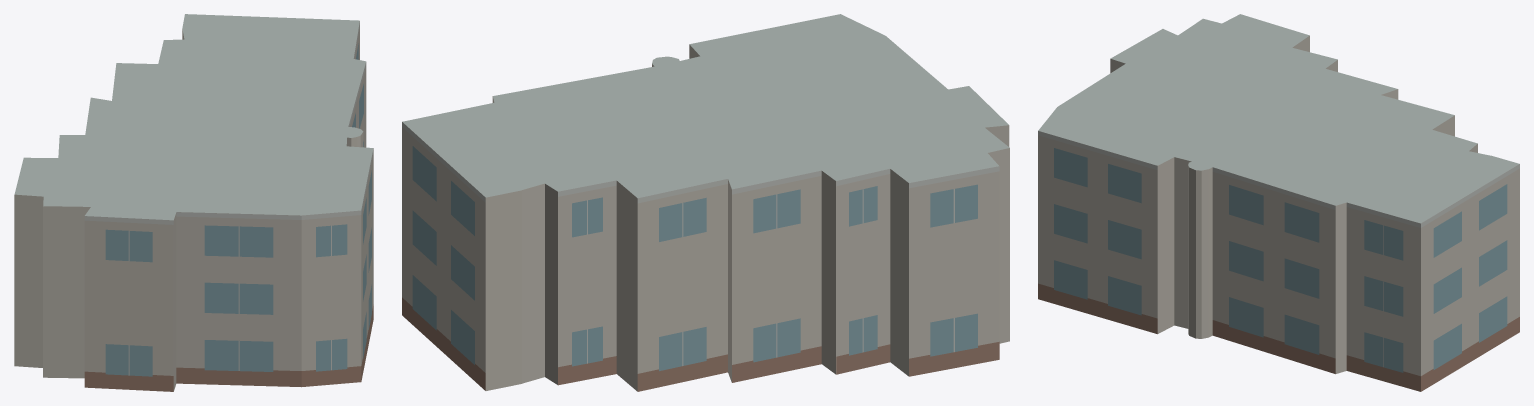
File: survey-upis-32467887.glb
3 renders of one model, left to right at view 1: azimuth 30°, elevation 25°; view 2: azimuth 150°, elevation 25°; view 3: azimuth 270°, elevation 25°, orthographic. The views are drawn at different scales.
Visible parts, largest first — view 1: survey-upis-32467887.tmp; view 2: survey-upis-32467887.tmp; view 3: survey-upis-32467887.tmp.
Boxes of the visible parts, <box> form: survey-upis-32467887.tmp: <box>14,14,373,391</box>; survey-upis-32467887.tmp: <box>402,14,1009,391</box>; survey-upis-32467887.tmp: <box>1038,14,1519,391</box>.
Size of the model in its own units: 24.43 by 9.15 by 23.73.
